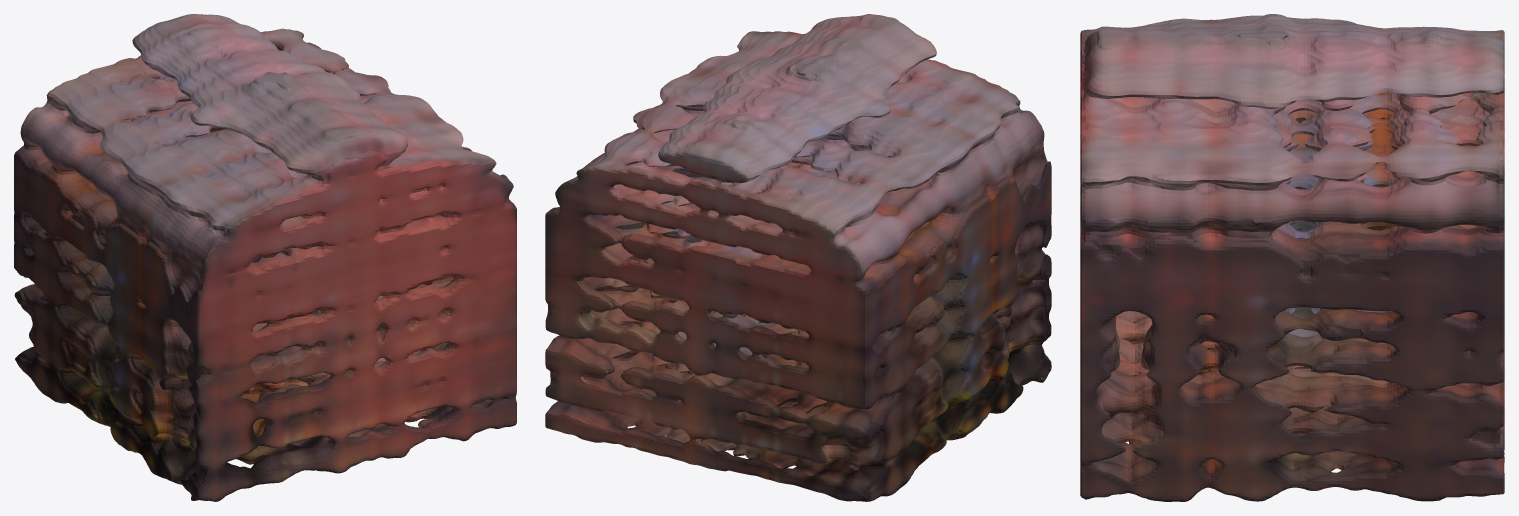
The model's file is house 1.glb.
The picture shows the model from 3 angles, left to right: view 1: azimuth 30°, elevation 25°; view 2: azimuth 150°, elevation 25°; view 3: azimuth 270°, elevation 25°; orthographic projection. The views are drawn at different scales.
Visible parts, largest first — view 1: tmp06rkxl86.ply; view 2: tmp06rkxl86.ply; view 3: tmp06rkxl86.ply.
Part boxes in pixels (x1,y1,x2,y2): tmp06rkxl86.ply: (14,14,516,501); tmp06rkxl86.ply: (545,14,1051,501); tmp06rkxl86.ply: (1080,14,1504,501).
Size of the model in its own units: 1.98 by 1.98 by 1.98.
